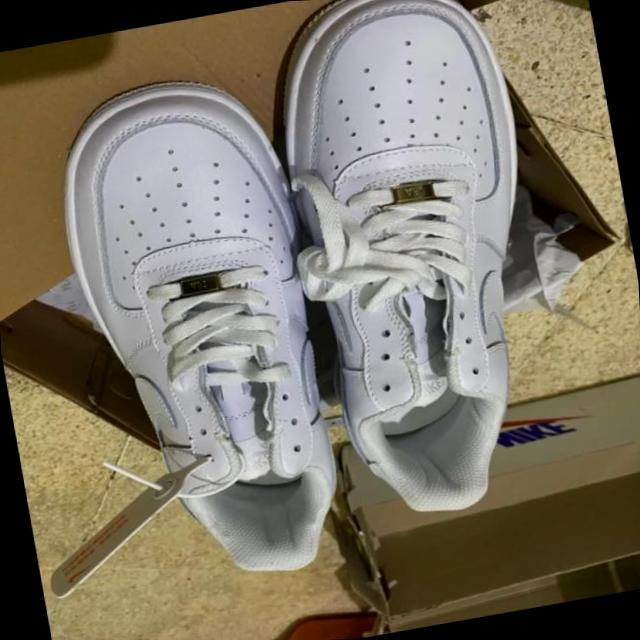nike_fake_airforce: (249, 0, 584, 538), (38, 59, 355, 604)
